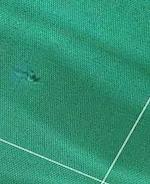knot: (20, 68, 43, 85)
